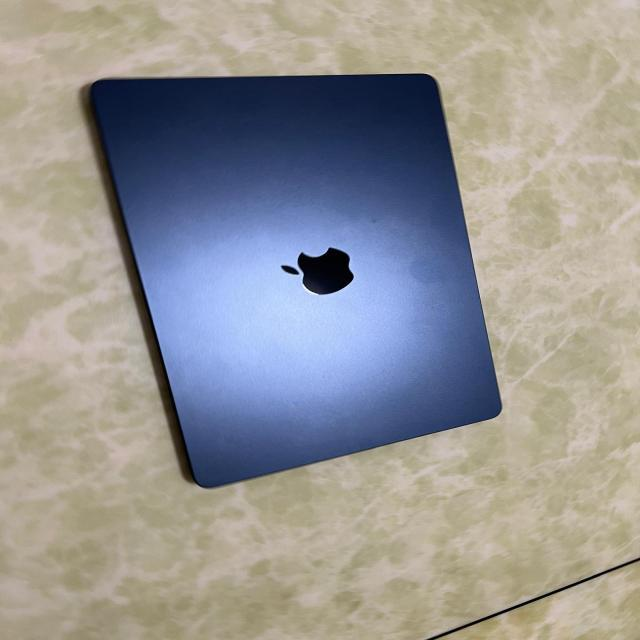laptop: (87, 72, 503, 488)
